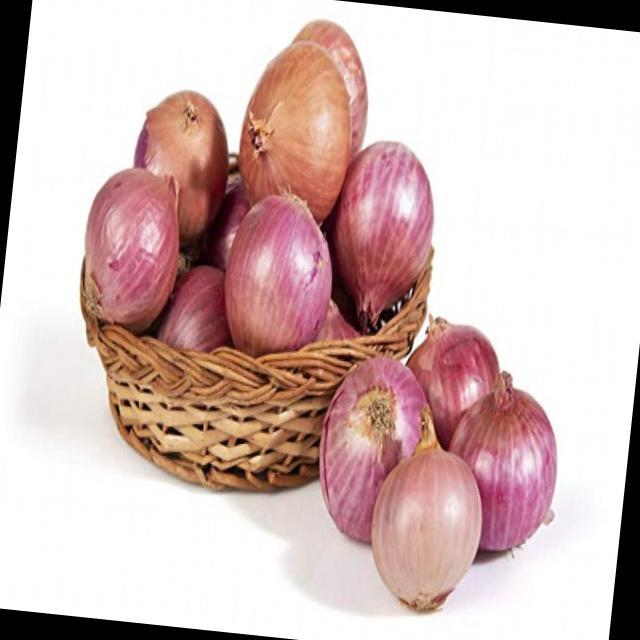ONIONS: (362, 426, 493, 616), (232, 37, 361, 219), (312, 350, 432, 538), (217, 178, 340, 356), (324, 127, 436, 322), (449, 378, 568, 554), (125, 86, 228, 238), (75, 164, 177, 314), (404, 314, 504, 460)
